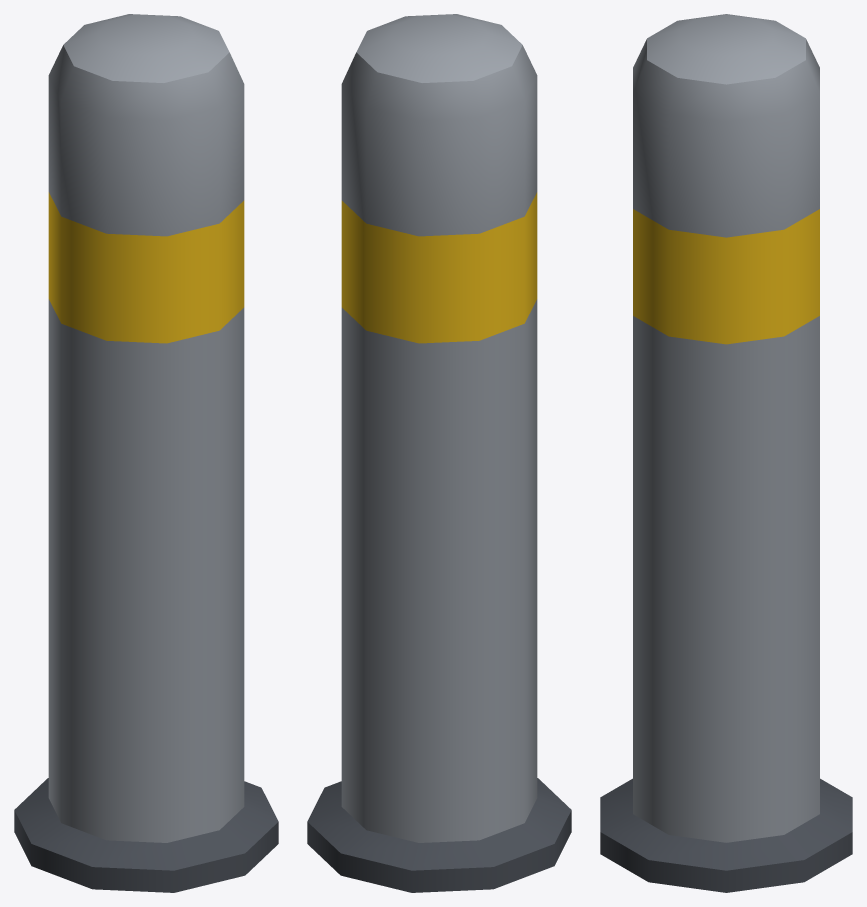
File: prop_bollard.glb
3 renders of one model, left to right at view 1: azimuth 30°, elevation 25°; view 2: azimuth 150°, elevation 25°; view 3: azimuth 270°, elevation 25°, orthographic.
Visible parts, largest first — view 1: prop_bollard__mesh; view 2: prop_bollard__mesh; view 3: prop_bollard__mesh.
Part boxes in pixels (box(x1,y1,x2,y2)): prop_bollard__mesh: box(14, 14, 278, 892); prop_bollard__mesh: box(307, 14, 571, 892); prop_bollard__mesh: box(600, 14, 852, 892).
Size of the model in its own units: 0.27 by 0.9 by 0.2568.
1 material, 1 textured.
